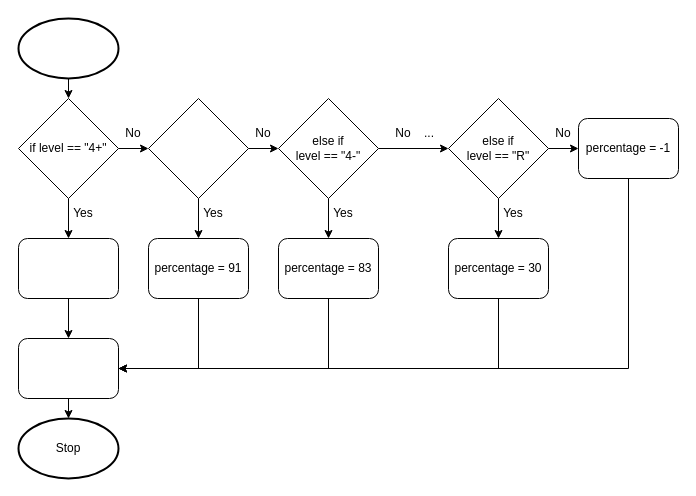
Image size: 696x496. Some labels were removed from this diagram. Each missing label, with the centre of its shape:
conversion(level): (x=68, y=48)
else if level == "4": (x=198, y=148)
percentage = 97: (x=68, y=268)
return percentage: (x=68, y=368)
